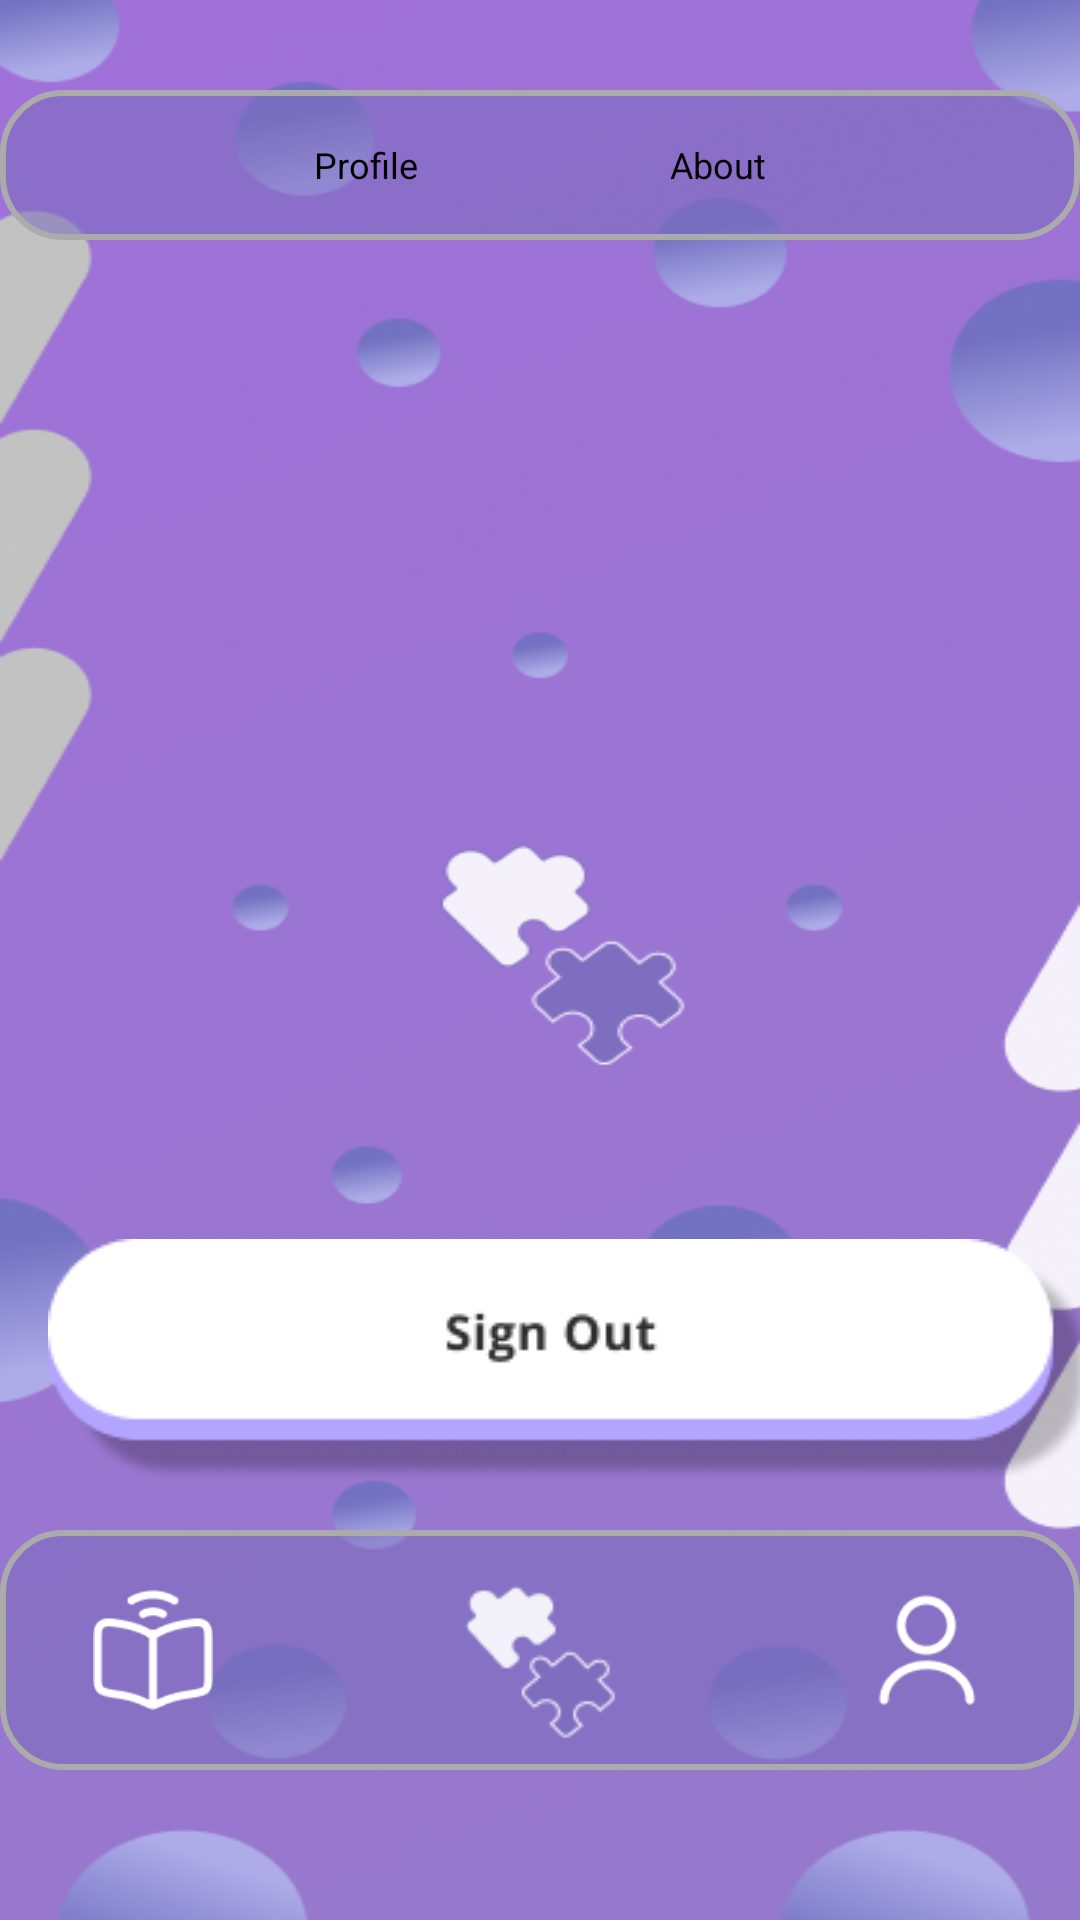

Locate icon controls on the screen. Image size 1080 × 1920, boxes as (x1, y1, x2, y2).
Learn: (93, 1590, 213, 1710)
Profile: (879, 1595, 975, 1705)
